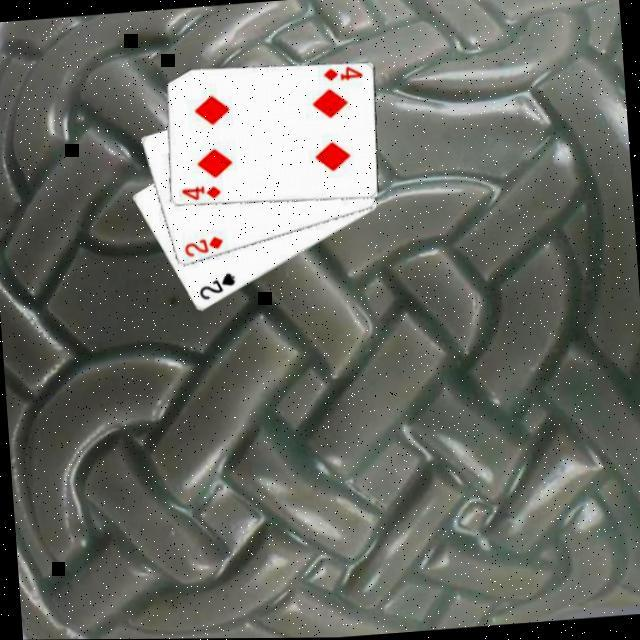2D: (181, 232, 227, 259)
2S: (195, 268, 239, 301)
4D: (179, 180, 224, 203), (320, 62, 365, 85)
